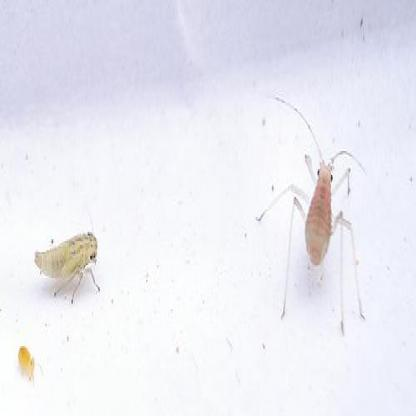aphid: (256, 94, 369, 332), (25, 205, 108, 307)
